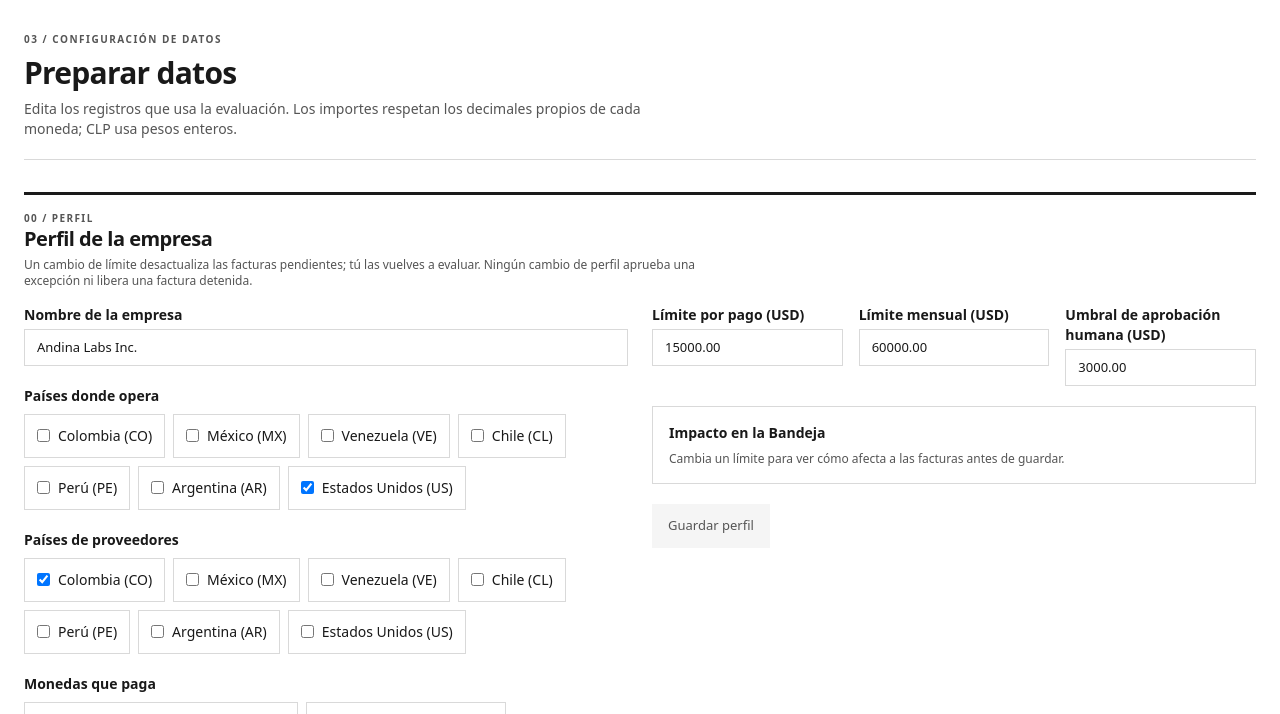
Test case: Preparar datos — QA visual › keeps the enabled company save button white against the global button cascade
This screenshot has width=1280, height=714.
Replace the text in the field labelled "Nombre de la empresa" with "Marea Norte SpA" at {"x": 326, "y": 347}, box [24, 329, 628, 366]
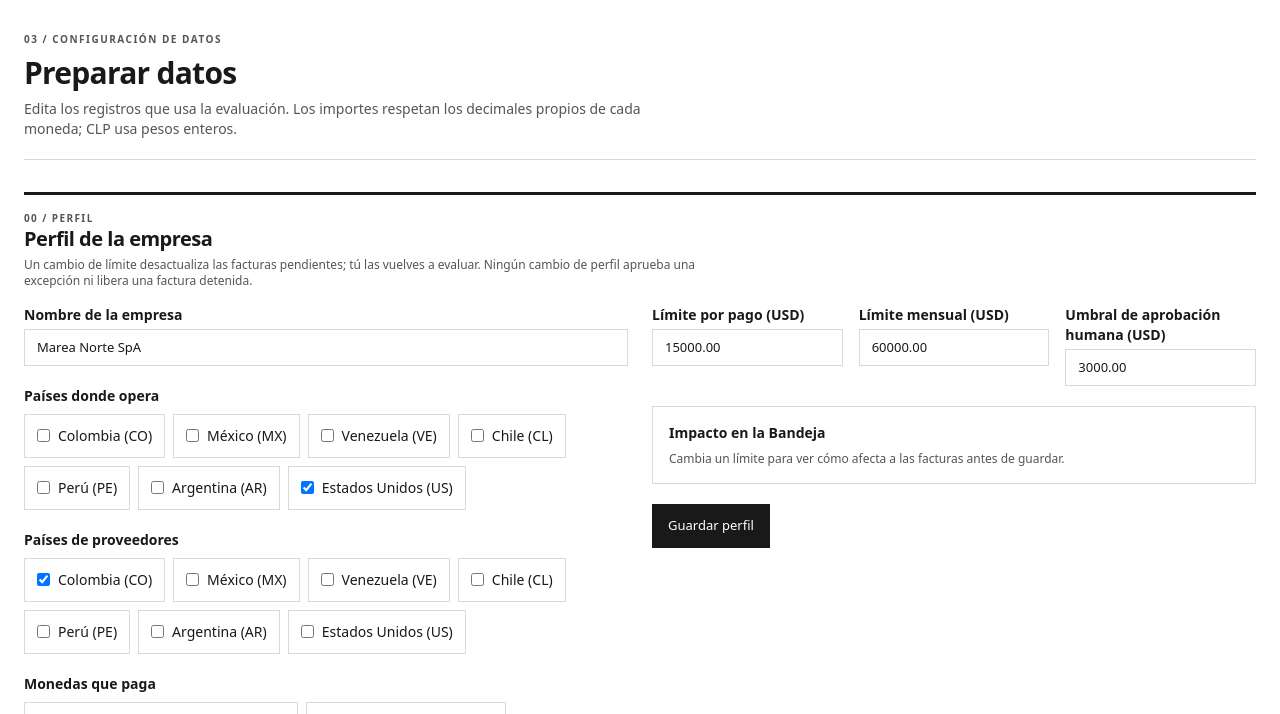
Now the button "Guardar perfil" is enabled, box [652, 504, 770, 548]
